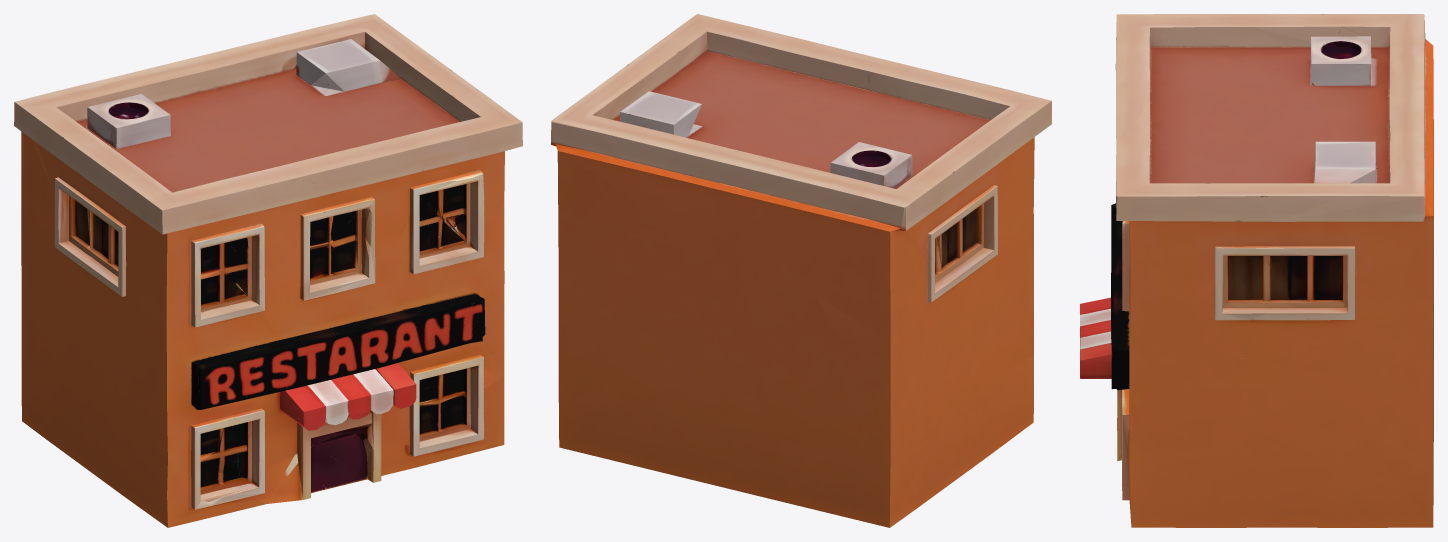
File: Restaurant.fbx
3 views of the same model, side by side, from view 1: azimuth 30°, elevation 25°; view 2: azimuth 150°, elevation 25°; view 3: azimuth 270°, elevation 25° (orthographic). The views are drawn at different scales.
Parts seen in each view (by area): view 1: output_unwrapped; view 2: output_unwrapped; view 3: output_unwrapped.
Part boxes in pixels (x1,y1,x2,y2): output_unwrapped: [14, 14, 522, 527]; output_unwrapped: [551, 14, 1051, 527]; output_unwrapped: [1080, 14, 1433, 527].
Bounding box in the file's own units: 190 × 166 × 156.
Materials: 1 (1 with a texture image).
